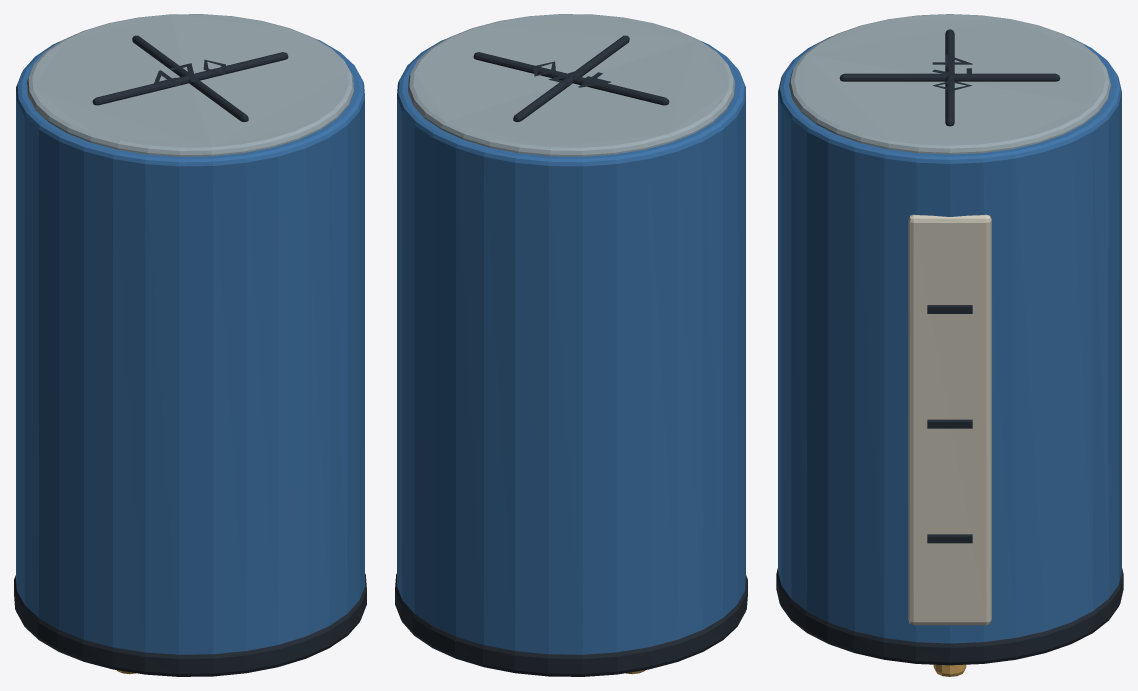
Rendered from capacitor.glb.
The picture shows the model from 3 angles, left to right: view 1: azimuth 30°, elevation 25°; view 2: azimuth 150°, elevation 25°; view 3: azimuth 270°, elevation 25°; orthographic projection.
Parts seen in each view (by area): view 1: capacitor; view 2: capacitor; view 3: capacitor.
Boxes of the visible parts, x1,y1,x2,y2 form: capacitor: (14,14,366,676); capacitor: (395,14,747,676); capacitor: (776,14,1123,676).
Size of the model in its own units: 0.1965 by 0.3475 by 0.192.
